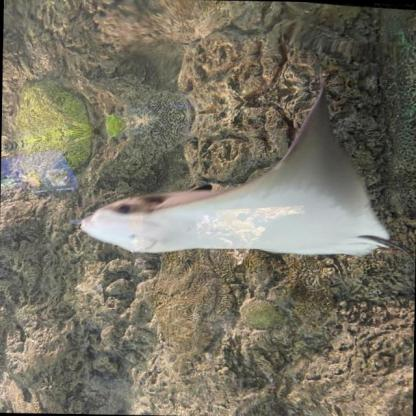stingray: (79, 62, 390, 256)
